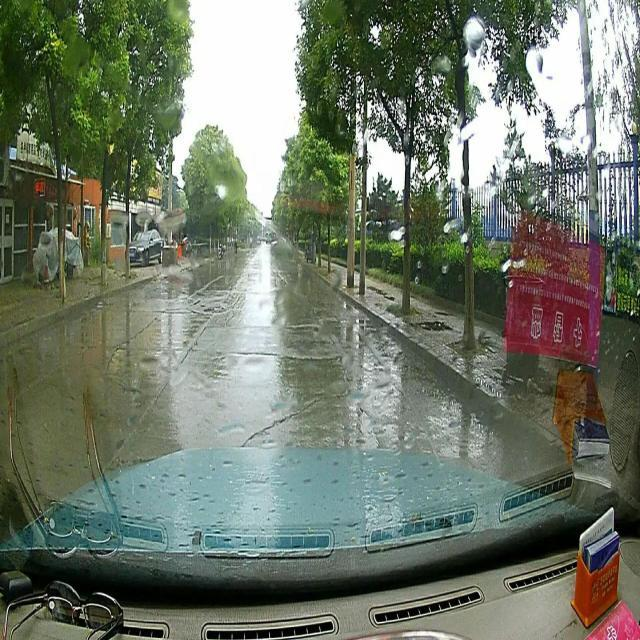car: (125, 227, 162, 262)
